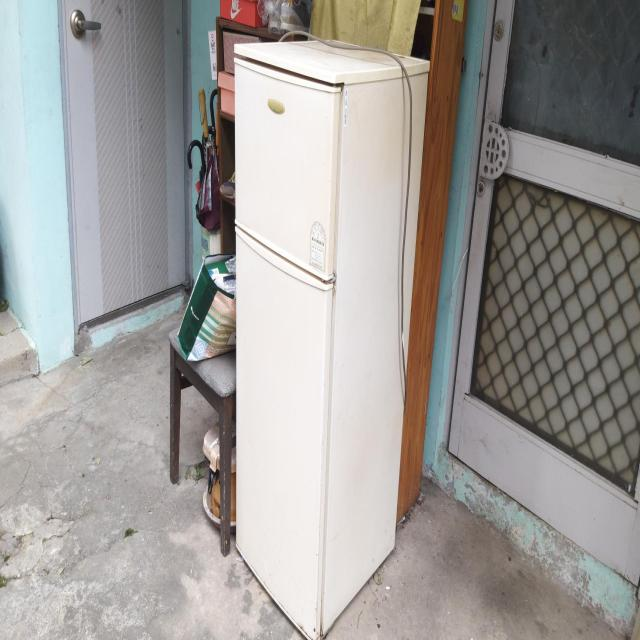refrigerator: (232, 40, 433, 640)
